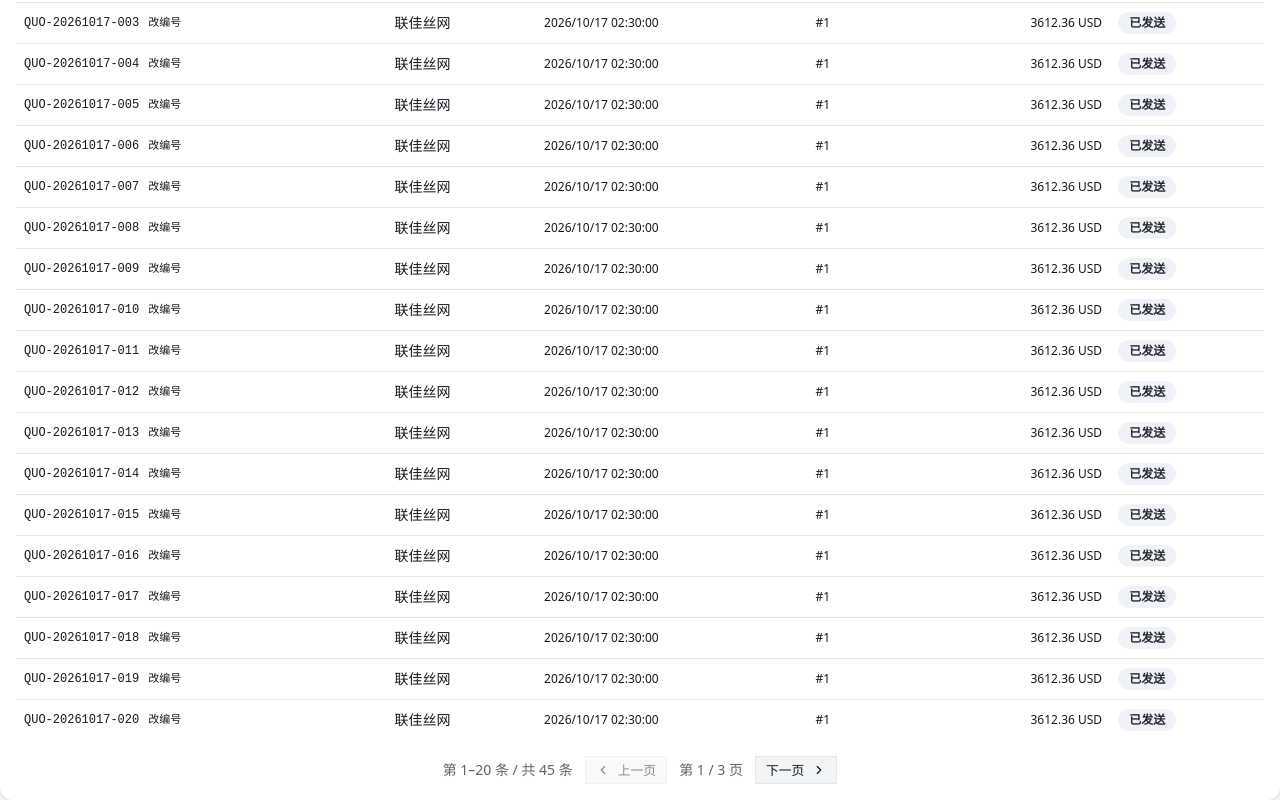
Test case: QuoteOrderRecords 分页（P1-E） › 末页按实际条数展示（45 条 ⇒ 第 41–45 条，下一页禁用）
(page scrolled)
Click the button "下一页": (796, 770) [755,756,837,784]
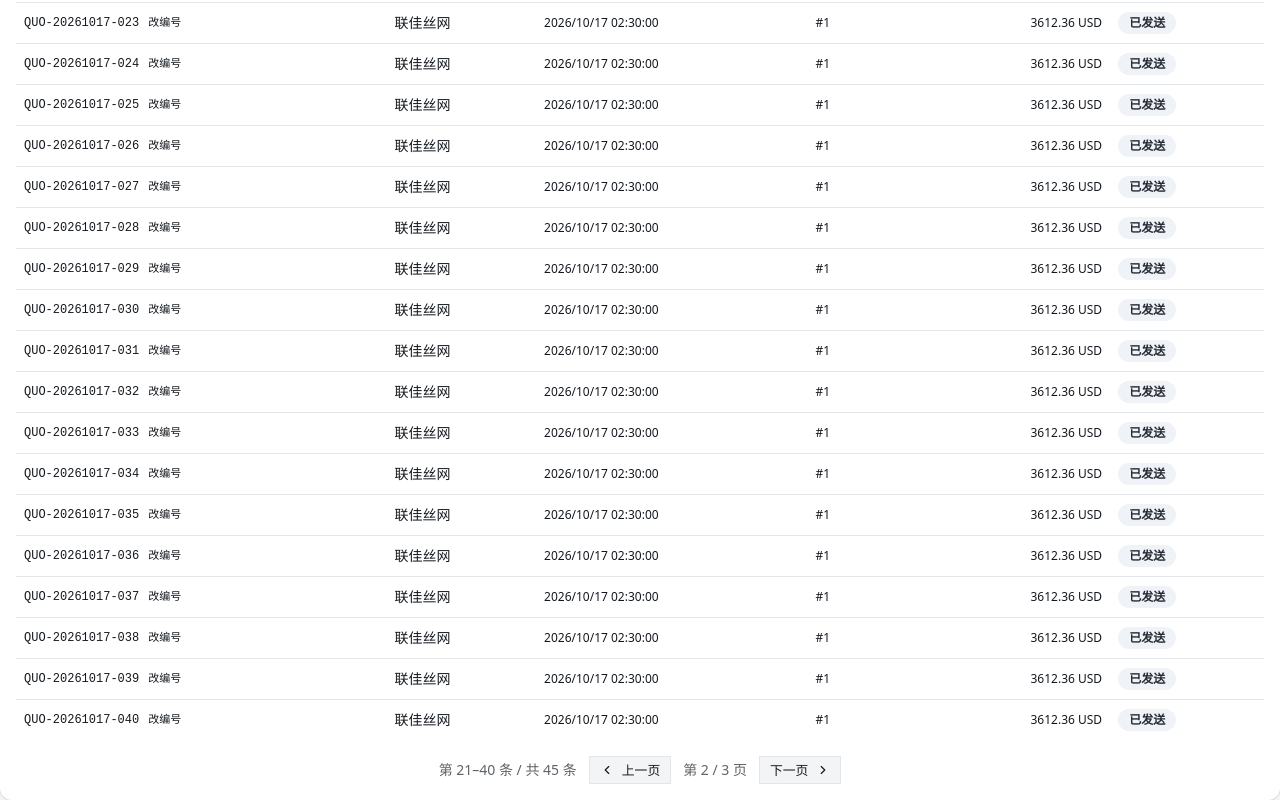
Click the button "下一页": (800, 770) [759,756,841,784]
(page scrolled)
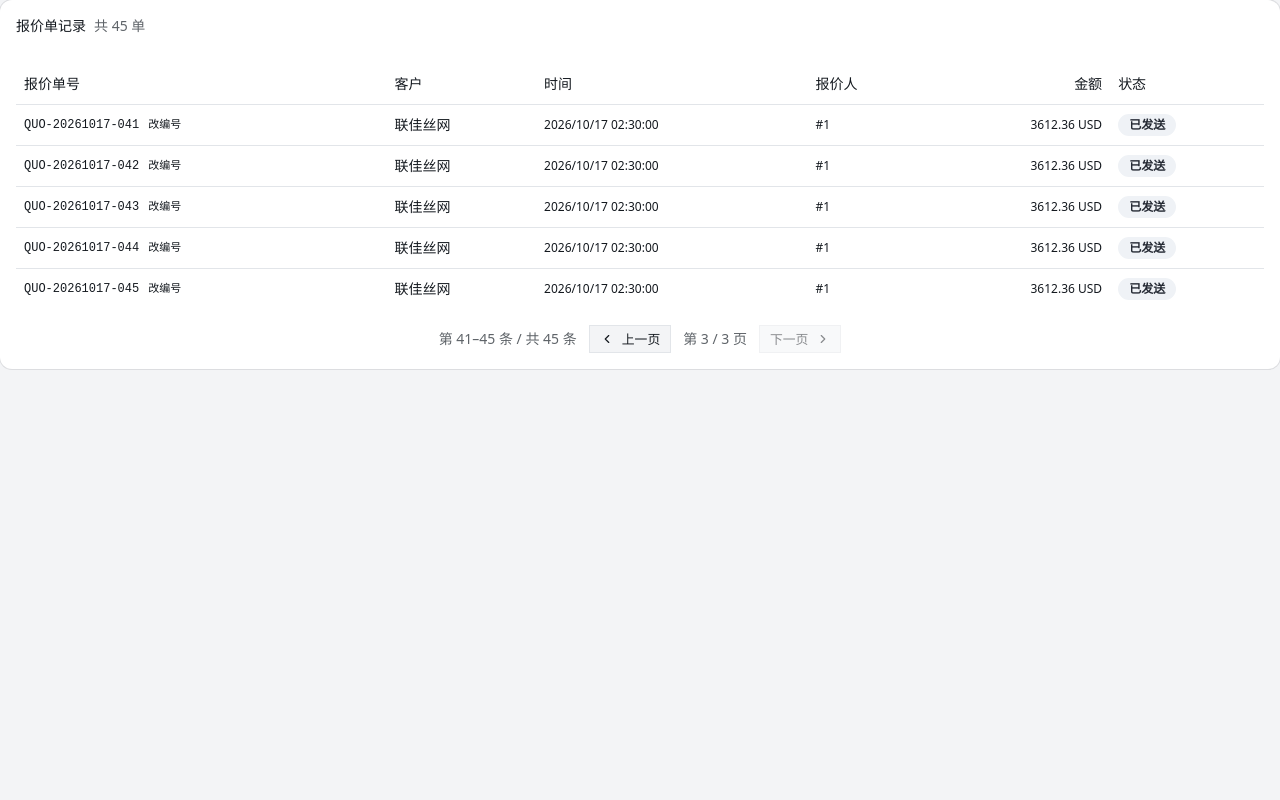
Expected: the text "第 41–45 条 / 共 45 条" is shown, [439,328,577,348]
Expected: the button "下一页" is disabled, [759,324,841,352]
